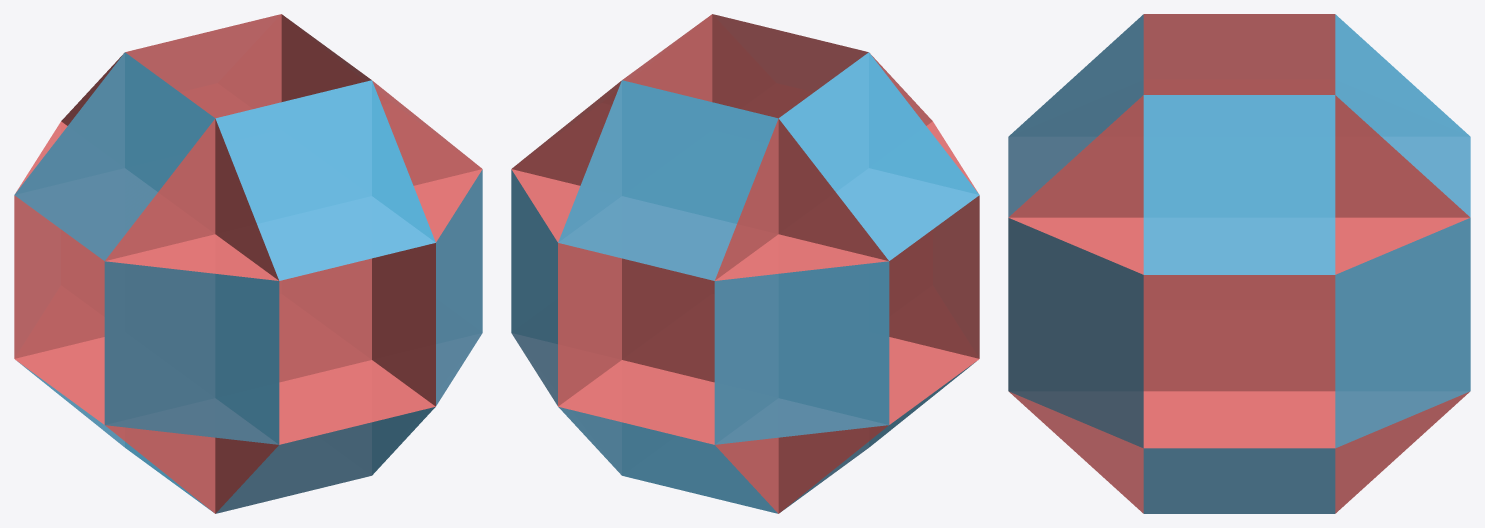
File: SmallRhombihexahedron.obj
3 views of the same model, side by side, from view 1: azimuth 30°, elevation 25°; view 2: azimuth 150°, elevation 25°; view 3: azimuth 270°, elevation 25° (orthographic). The views are drawn at different scales.
Bounding box in the file's own units: 2.41 × 2.41 × 2.41.
